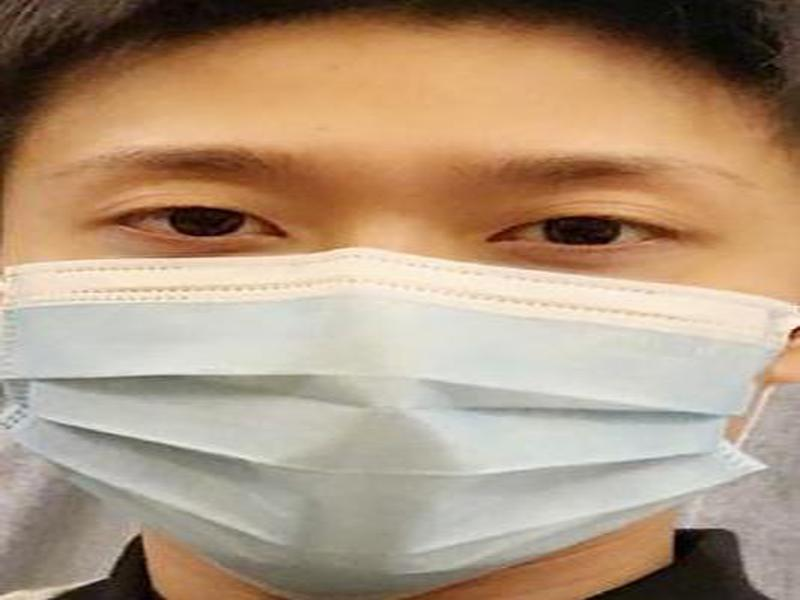with_mask: (1, 1, 798, 591)
